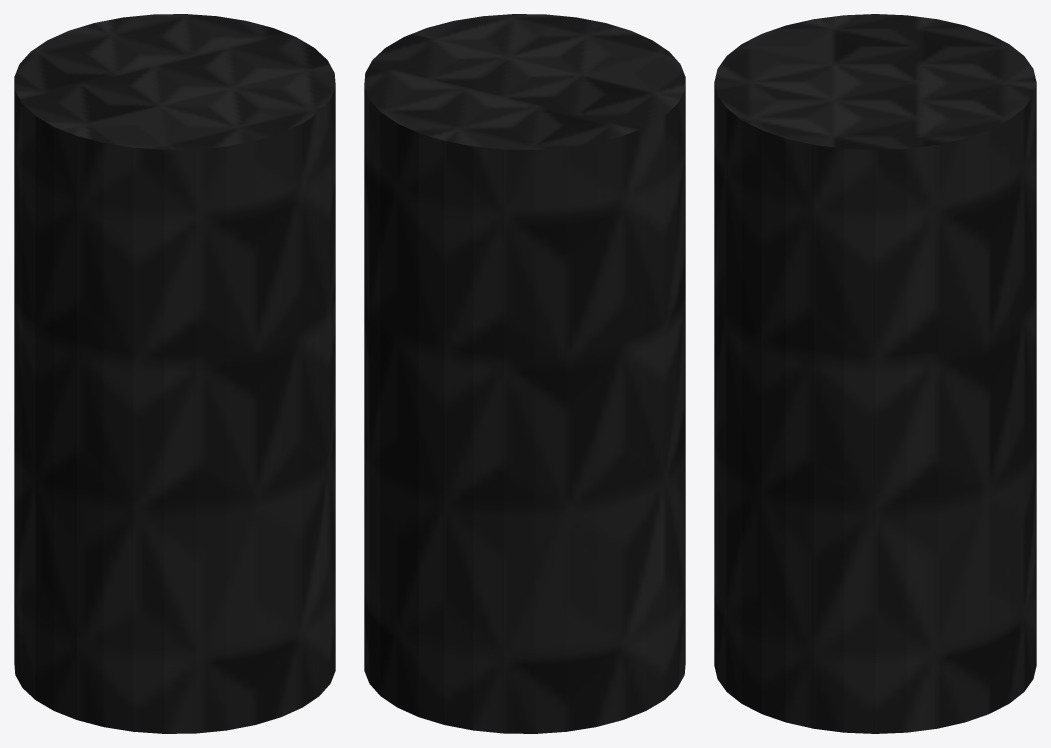
File: Static.obj
3 renders of one model, left to right at view 1: azimuth 30°, elevation 25°; view 2: azimuth 150°, elevation 25°; view 3: azimuth 270°, elevation 25°, orthographic.
Visible parts, largest first — view 1: 円柱; view 2: 円柱; view 3: 円柱.
Boxes of the visible parts, x1,y1,x2,y2 form: 円柱: (14,14,335,733); 円柱: (364,14,685,733); 円柱: (714,14,1036,733).
Size of the model in its own units: 2 by 4 by 2.
Materials: 1 (1 with a texture image).
